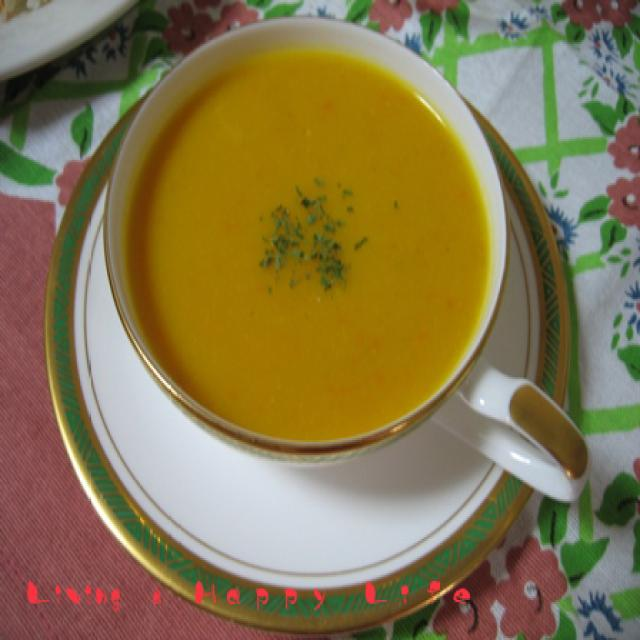汤锅炖物: (96, 53, 514, 463)
